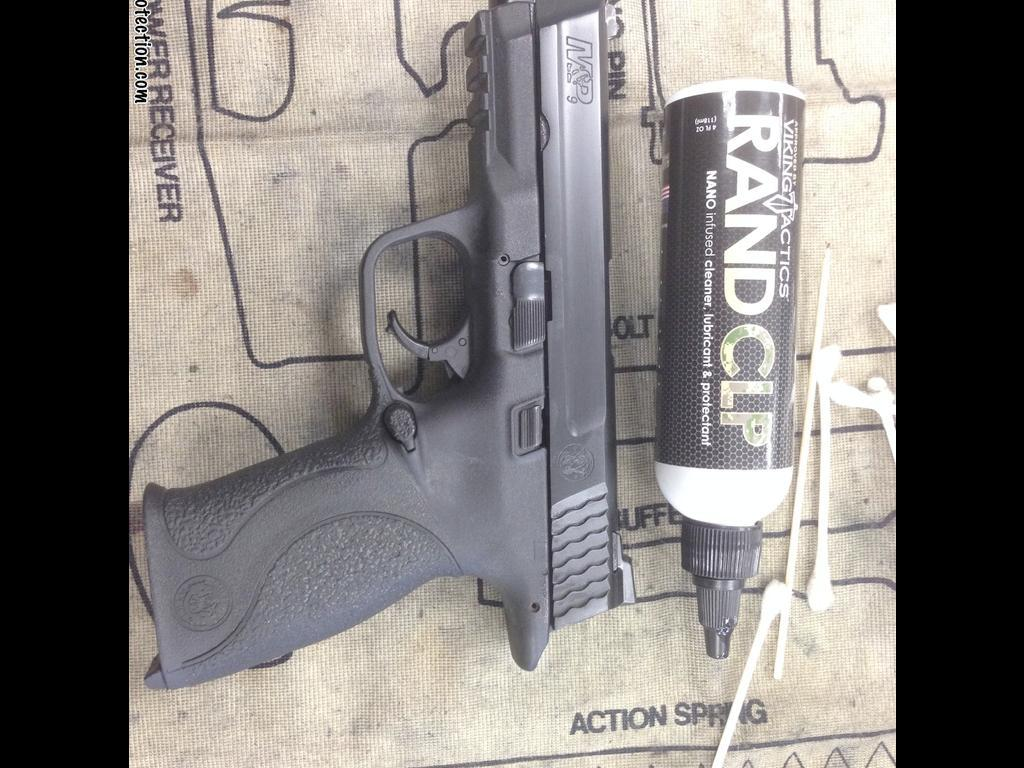gun: (128, 0, 603, 680)
